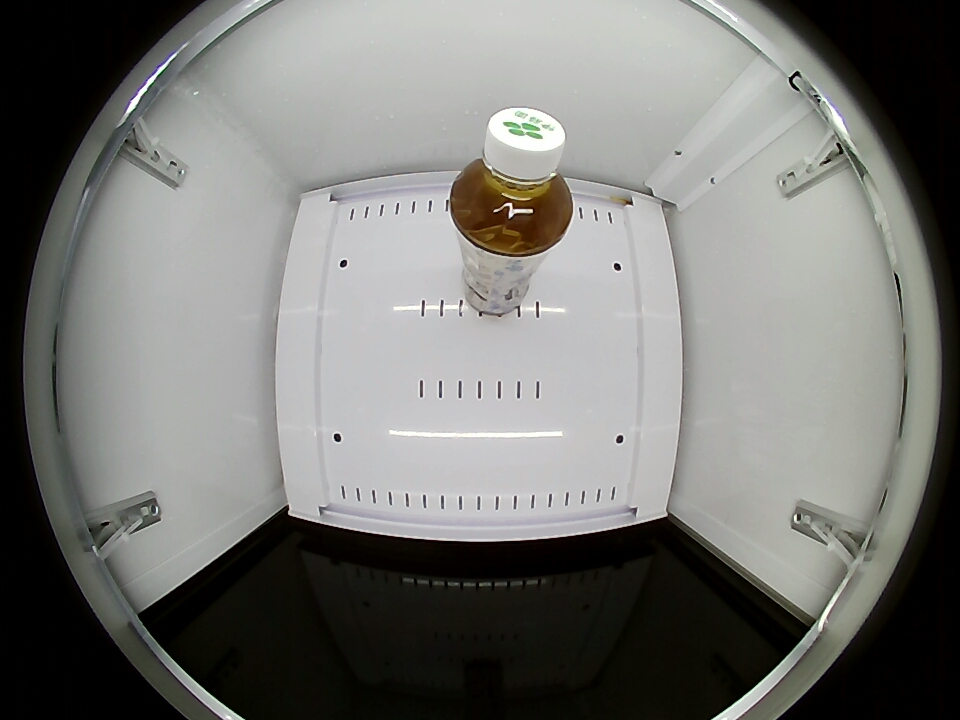baicha: (448, 107, 573, 255)
